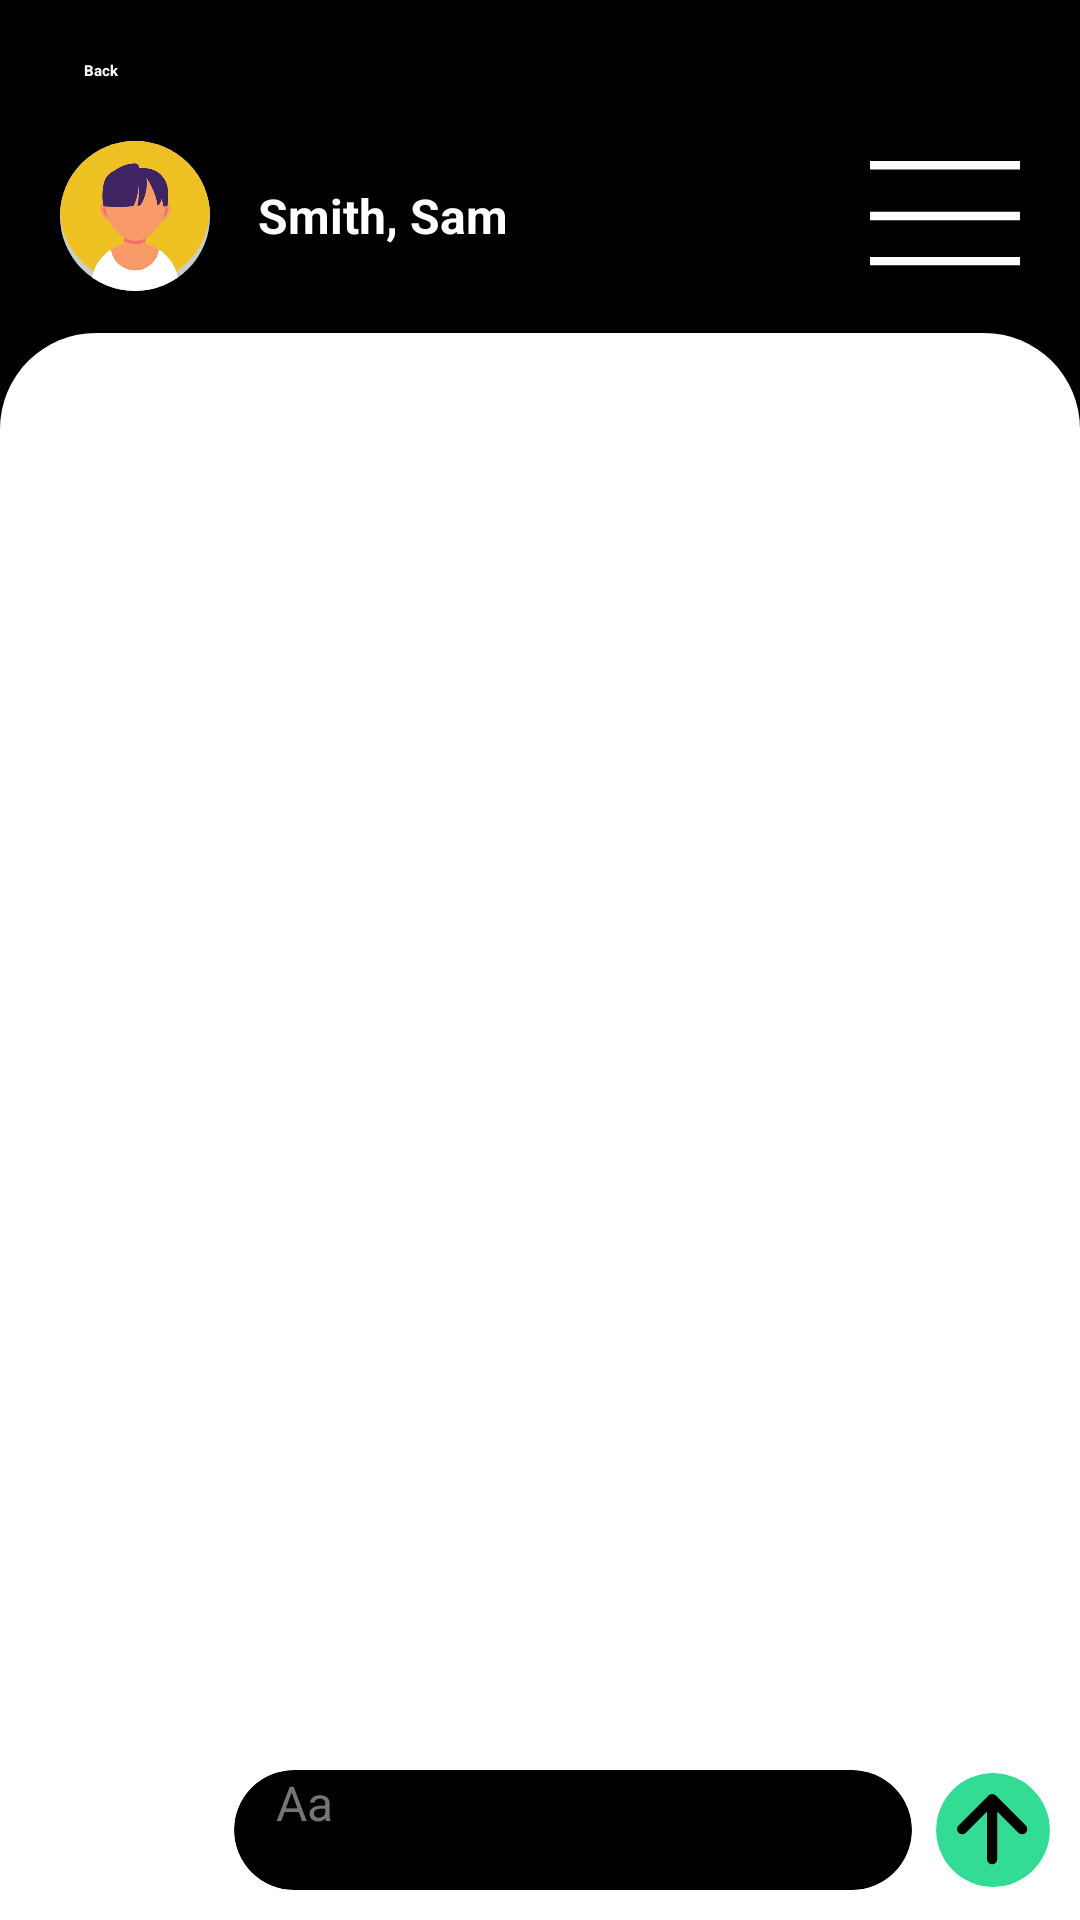

Icons on this 1080px×1920px Android screen, each with its box as bbox=[x1, y1, x2, y2]:
menu: bbox=[870, 161, 1020, 266]
send: bbox=[957, 1794, 1028, 1865]
